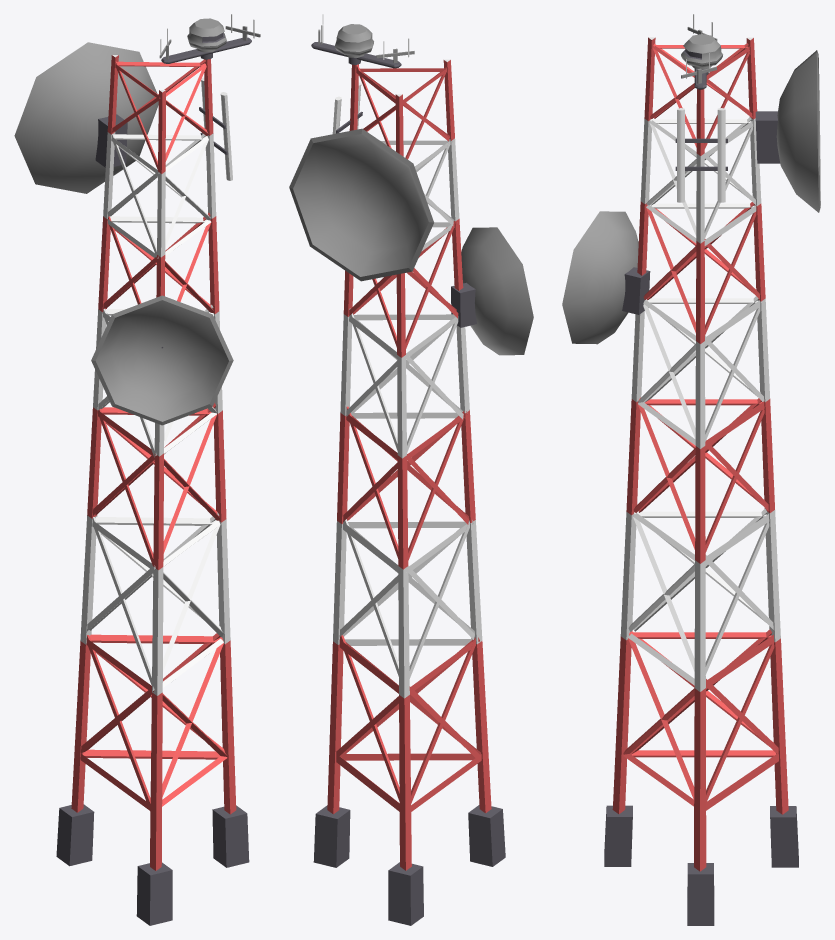
Rendered from radio_tower.glb.
3 views of the same model, side by side, from view 1: azimuth 30°, elevation 25°; view 2: azimuth 150°, elevation 25°; view 3: azimuth 270°, elevation 25° (orthographic). The views are drawn at different scales.
Visible parts, largest first — view 1: SM_RadioTower:pPrism71_b07ace, SM_RadioTower:pPrism71_bbf0b1, SM_RadioTower:pPrism71_82133a, SM_RadioTower:pPrism71_c45693; view 2: SM_RadioTower:pPrism71_b07ace, SM_RadioTower:pPrism71_bbf0b1, SM_RadioTower:pPrism71_82133a, SM_RadioTower:pPrism71_c45693; view 3: SM_RadioTower:pPrism71_b07ace, SM_RadioTower:pPrism71_82133a, SM_RadioTower:pPrism71_bbf0b1, SM_RadioTower:pPrism71_c45693.
Part boxes in pixels (<box>): SM_RadioTower:pPrism71_b07ace: <box>71,55,236,870</box>; SM_RadioTower:pPrism71_bbf0b1: <box>14,18,260,425</box>; SM_RadioTower:pPrism71_82133a: <box>80,14,254,695</box>; SM_RadioTower:pPrism71_c45693: <box>56,32,251,925</box>; SM_RadioTower:pPrism71_b07ace: <box>327,60,491,870</box>; SM_RadioTower:pPrism71_bbf0b1: <box>289,24,533,355</box>; SM_RadioTower:pPrism71_82133a: <box>322,14,482,698</box>; SM_RadioTower:pPrism71_c45693: <box>311,42,505,925</box>; SM_RadioTower:pPrism71_b07ace: <box>612,37,788,871</box>; SM_RadioTower:pPrism71_82133a: <box>620,14,780,691</box>; SM_RadioTower:pPrism71_bbf0b1: <box>562,27,820,344</box>; SM_RadioTower:pPrism71_c45693: <box>604,48,798,925</box>.
Size of the model in its own units: 7.15 by 30 by 8.1.
